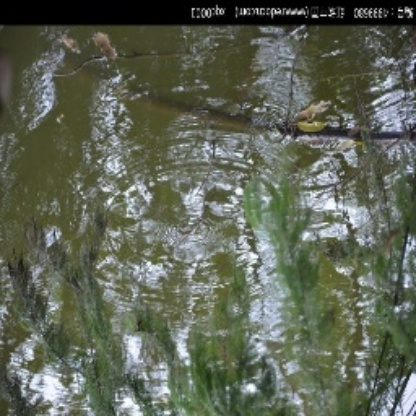branch: (155, 85, 416, 154)
